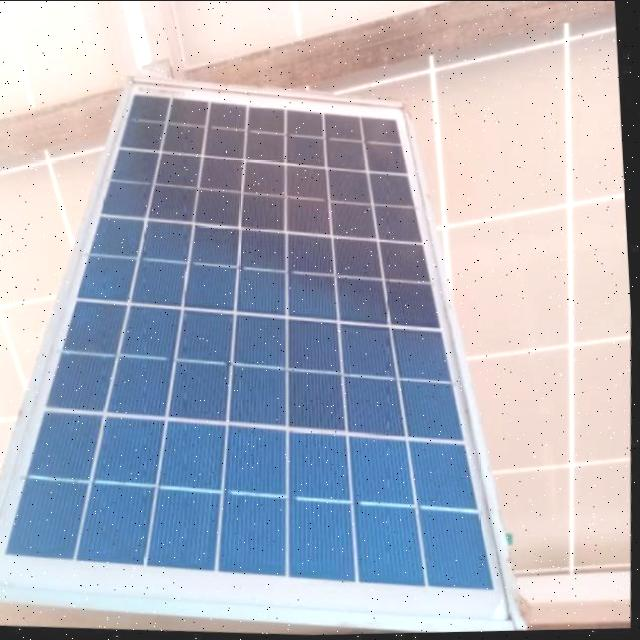Normal Solar Panel: (0, 65, 548, 638)
